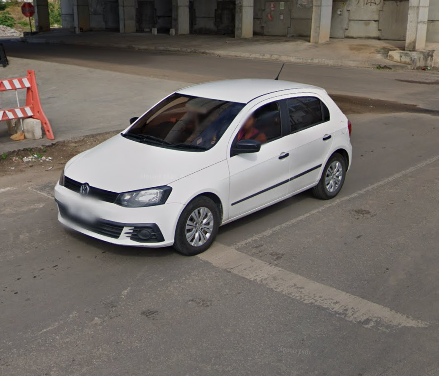car: (50, 61, 354, 257)
